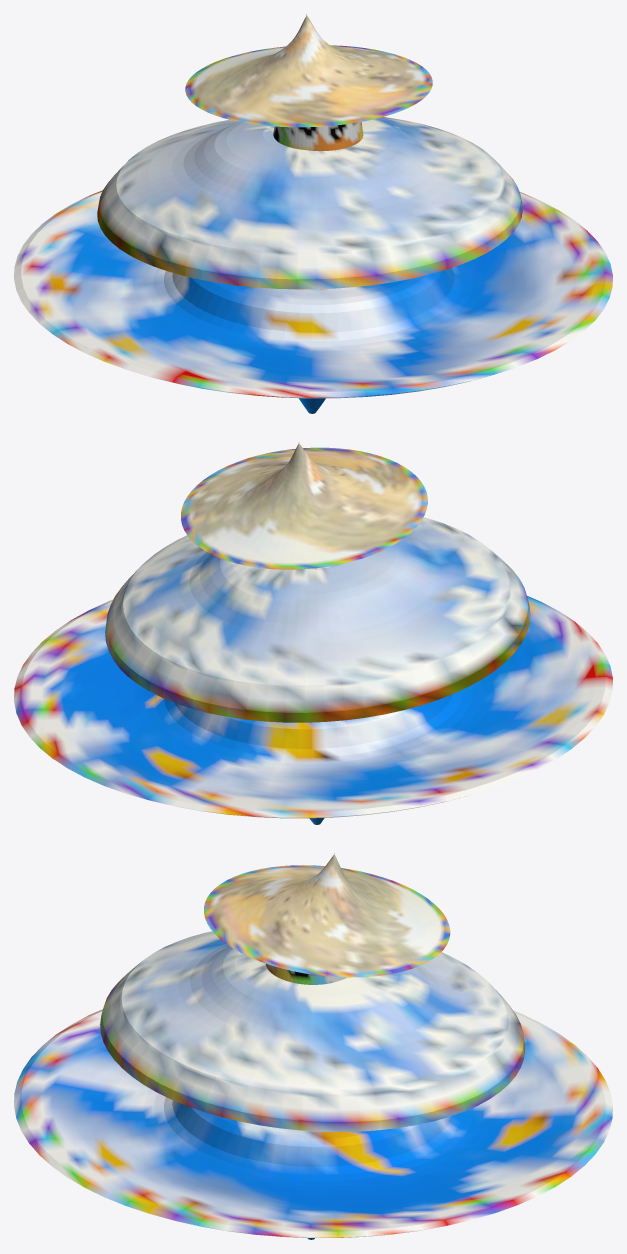
File: april24pagoda.glb
3 views of the same model, one above another, from view 1: azimuth 30°, elevation 25°; view 2: azimuth 150°, elevation 25°; view 3: azimuth 270°, elevation 25° (orthographic).
Parts seen in each view (by area): view 1: Lathe 4, Lathe 3, Lathe, Lathe.001; view 2: Lathe 4, Lathe 3, Lathe; view 3: Lathe 4, Lathe 3, Lathe, Lathe.001.
Part boxes in pixels (x1,y1,x2,y2): Lathe 4: (14, 190, 612, 413); Lathe 3: (97, 117, 522, 289); Lathe: (185, 14, 432, 127); Lathe.001: (273, 122, 363, 150); Lathe 4: (14, 596, 612, 824); Lathe 3: (105, 517, 530, 722); Lathe: (181, 442, 427, 569); Lathe 4: (14, 1009, 612, 1239); Lathe 3: (100, 931, 524, 1131); Lathe: (204, 853, 450, 977); Lathe.001: (265, 963, 346, 984).
Bounding box in the file's own units: 3.74 × 2.67 × 3.74.
